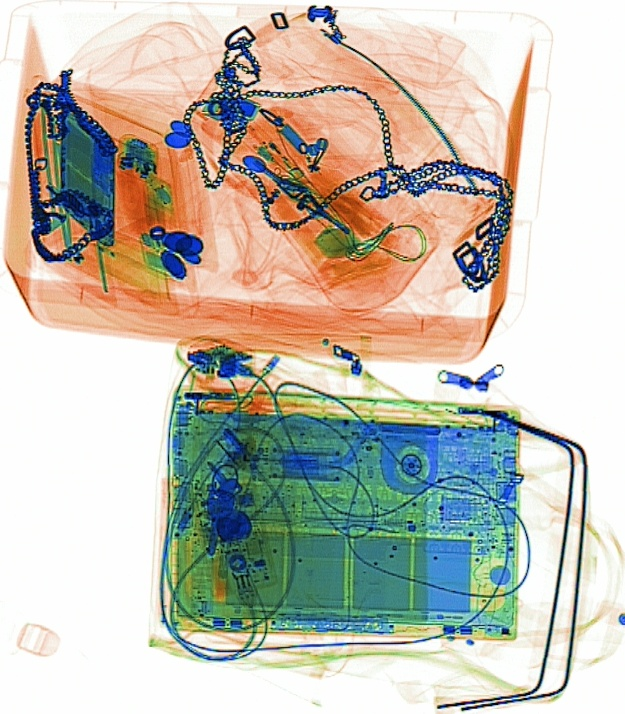lighter: (236, 116, 306, 182)
